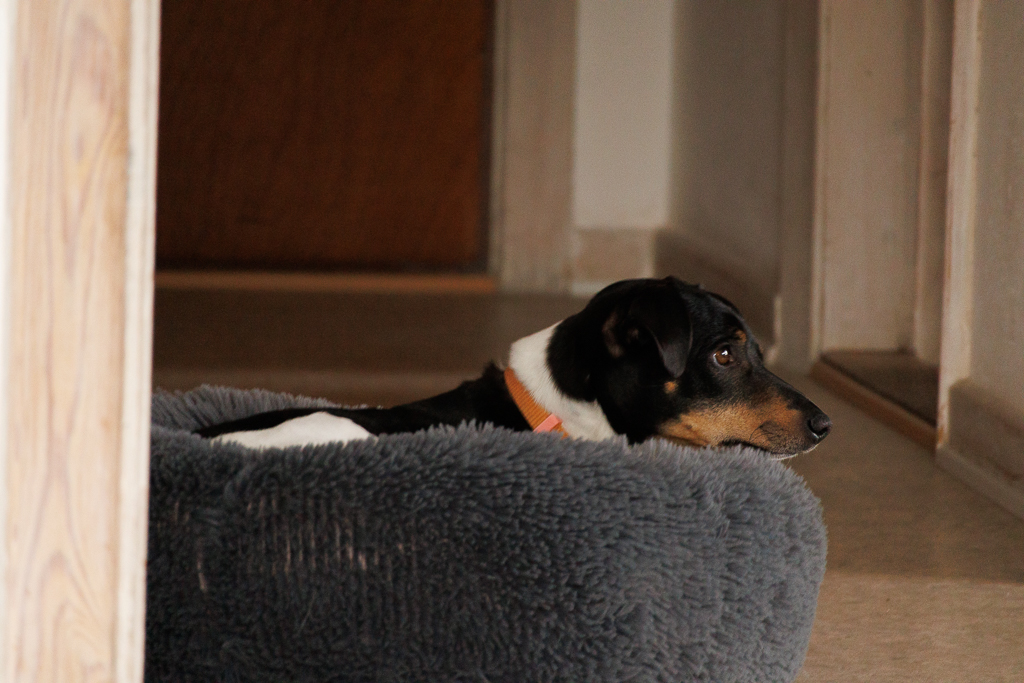Dog: (155, 266, 841, 465)
